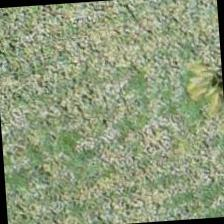Kelapa_Sawit: (171, 44, 223, 139)
